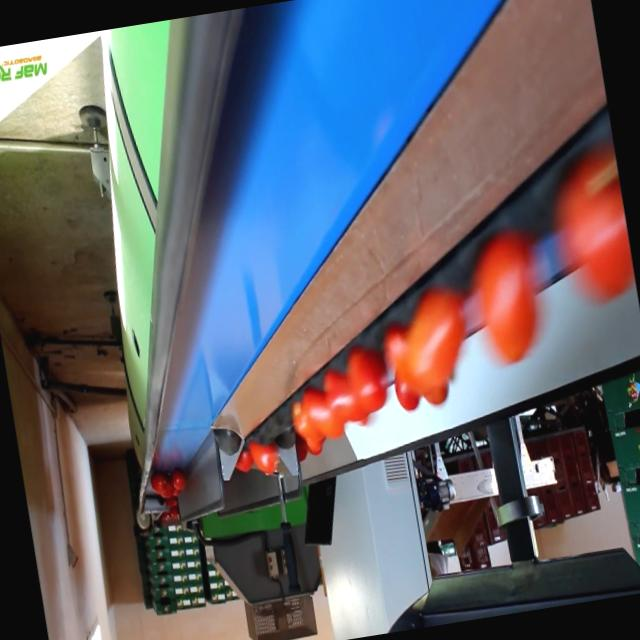Tomato: (544, 150, 639, 302), (468, 230, 548, 362), (400, 284, 475, 389), (323, 366, 375, 426), (300, 383, 354, 438), (346, 346, 394, 407), (291, 398, 326, 438), (246, 440, 284, 476), (235, 448, 255, 473), (148, 473, 170, 494), (172, 470, 186, 490)
